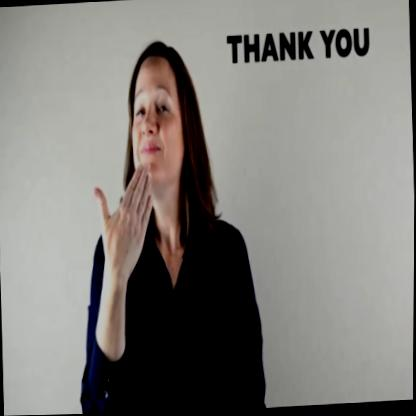ThankYou: (79, 26, 216, 271)
